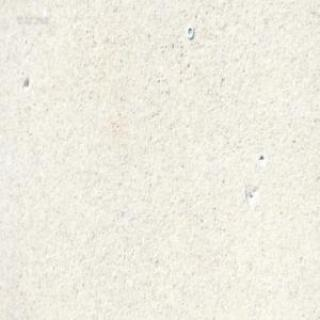Washertrack_idkeyframe: (185, 24, 193, 38)
